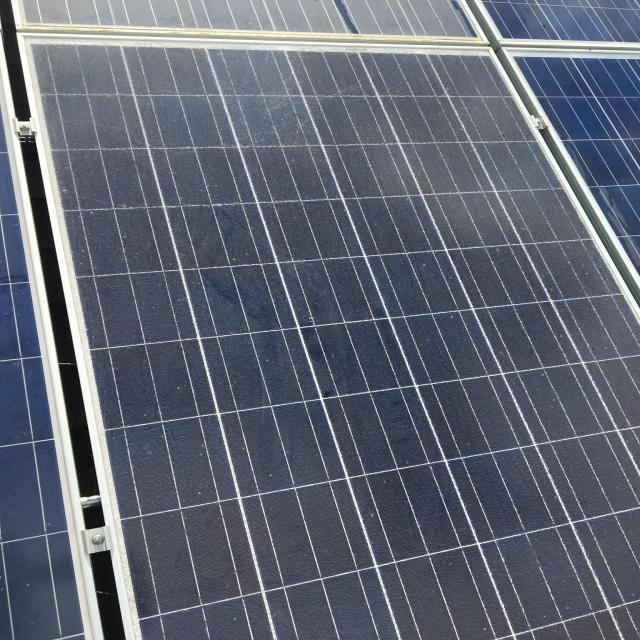dust-solar-panel: (14, 0, 640, 640)
